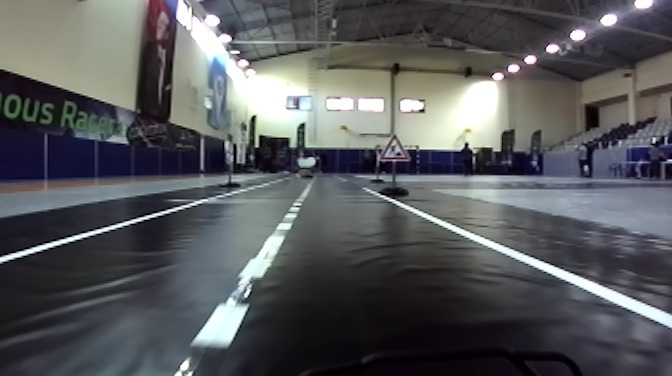yol_yapimi: (376, 131, 410, 163)
